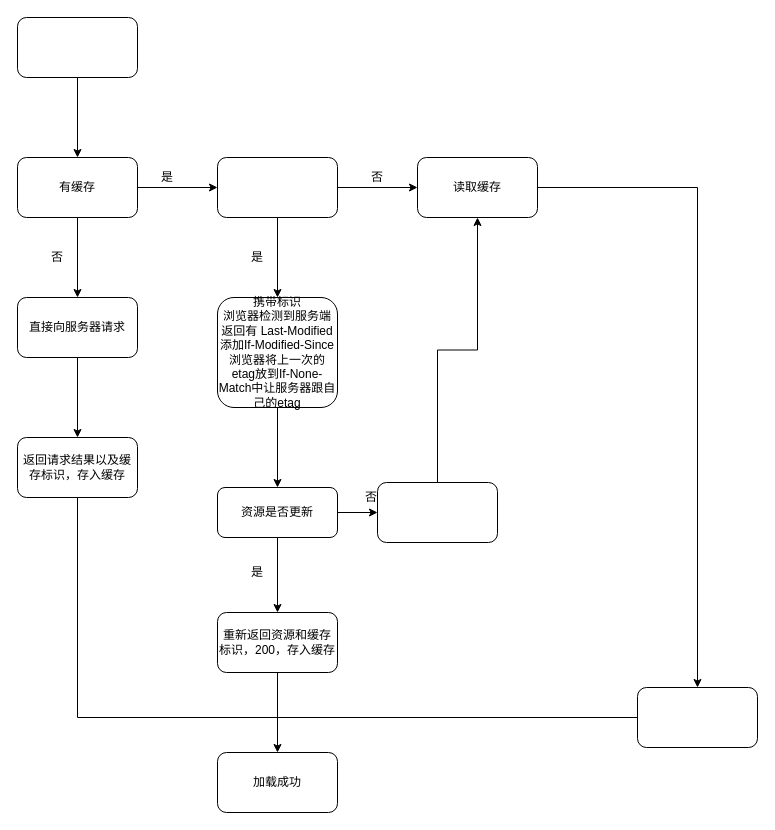
Image size: 775x830. Some labels were removed from this diagram. Each missing label, with the centre of its shape:
"304，继续使用缓存" goes at point (437, 512).
"开始请求" goes at point (77, 47).
"缓存是否过期（Expire和Cache-Control）" goes at point (277, 187).
"返回数据" goes at point (697, 717).
